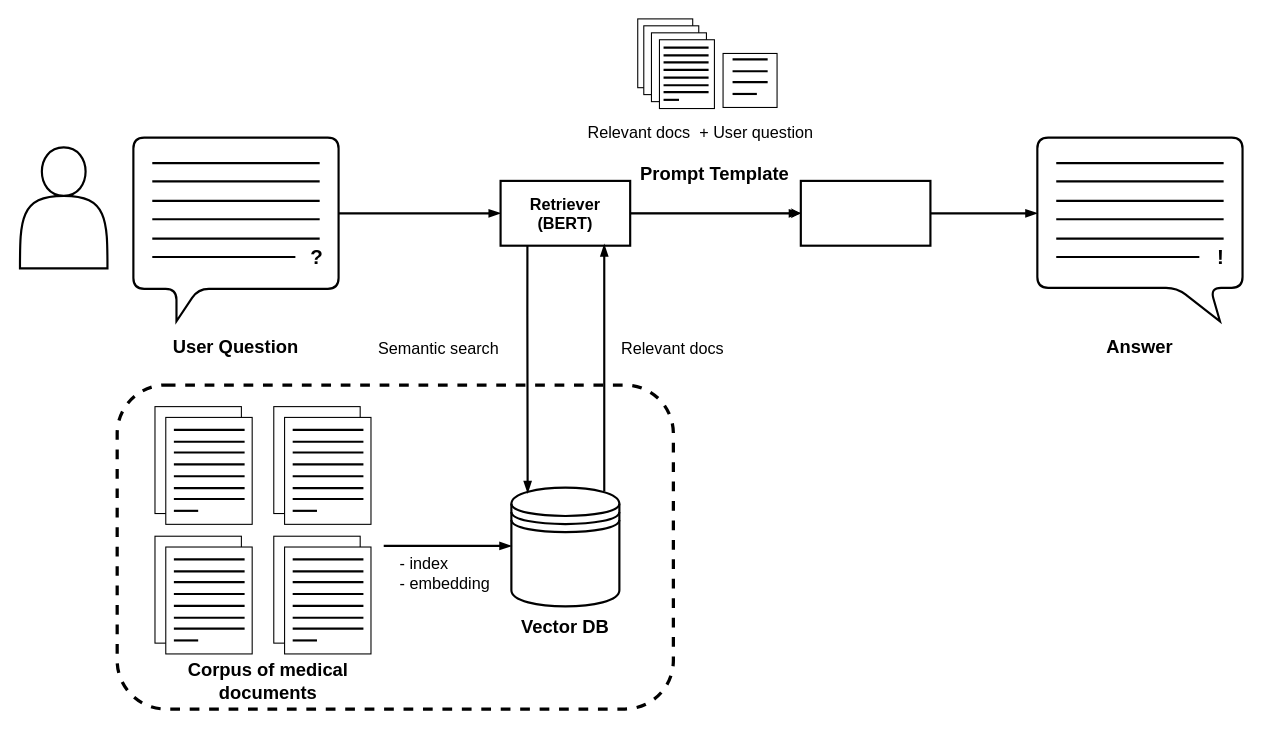
Some shapes in this 1271 by 729 pixel diagram are drawn without their labels. The shapes that lost their labels are listed below. From the top down, each one's centre as x and y in pixels, then its label:
At [865,212]: "LLM".
At [565,546]: "FAISS".
